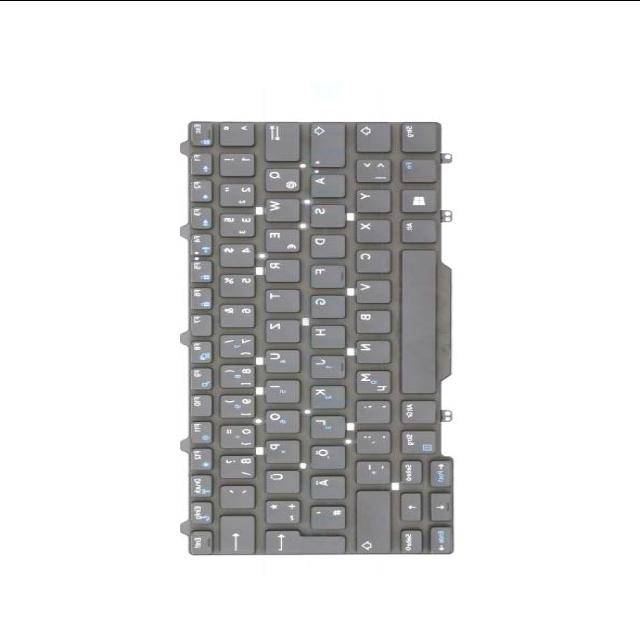0: (216, 421, 253, 446)
1: (216, 149, 253, 174)
2: (215, 179, 253, 205)
3: (215, 209, 253, 235)
4: (215, 240, 253, 265)
5: (215, 270, 253, 295)
6: (215, 300, 254, 325)
7: (215, 330, 253, 355)
8: (215, 361, 254, 386)
9: (215, 391, 253, 416)
a: (306, 171, 344, 195)
accent: (216, 481, 253, 506)
ae: (306, 473, 343, 497)
alt-left: (396, 216, 434, 241)
altgr-right: (396, 397, 433, 421)
b: (352, 306, 389, 331)
c: (352, 246, 389, 270)
caret: (216, 119, 252, 143)
comma: (352, 397, 389, 421)
d: (306, 231, 343, 255)
del: (215, 513, 252, 552)
e: (260, 225, 299, 249)
enter: (259, 527, 345, 551)
f: (306, 261, 343, 285)
g: (306, 291, 343, 315)
h: (307, 322, 343, 346)
hash: (306, 502, 344, 527)
i: (261, 377, 298, 401)
j: (306, 352, 342, 376)
k: (306, 382, 343, 407)
keyboard: (180, 114, 456, 554)
l: (306, 413, 343, 437)
less: (351, 154, 390, 180)
m: (351, 366, 390, 391)
minus: (352, 457, 389, 481)
n: (352, 337, 389, 361)
o: (261, 406, 298, 430)
oe: (306, 442, 343, 466)
p: (261, 437, 298, 461)
plus: (261, 496, 299, 521)
point: (353, 428, 389, 452)
q: (261, 164, 299, 190)
r: (261, 255, 299, 280)
s: (307, 201, 343, 225)
shift-left: (352, 119, 389, 149)
shift-lock: (307, 119, 343, 165)
shift-right: (351, 489, 389, 551)
space: (395, 247, 434, 393)
ss: (216, 452, 253, 476)
strg-left: (396, 119, 436, 150)
strg-right: (396, 428, 435, 452)
t: (261, 286, 298, 310)
tab: (259, 119, 297, 159)
u: (261, 346, 299, 371)
ue: (261, 467, 298, 491)
v: (352, 276, 389, 301)
w: (259, 195, 297, 219)
x: (352, 217, 389, 241)
y: (352, 186, 390, 210)
z: (261, 316, 298, 340)
